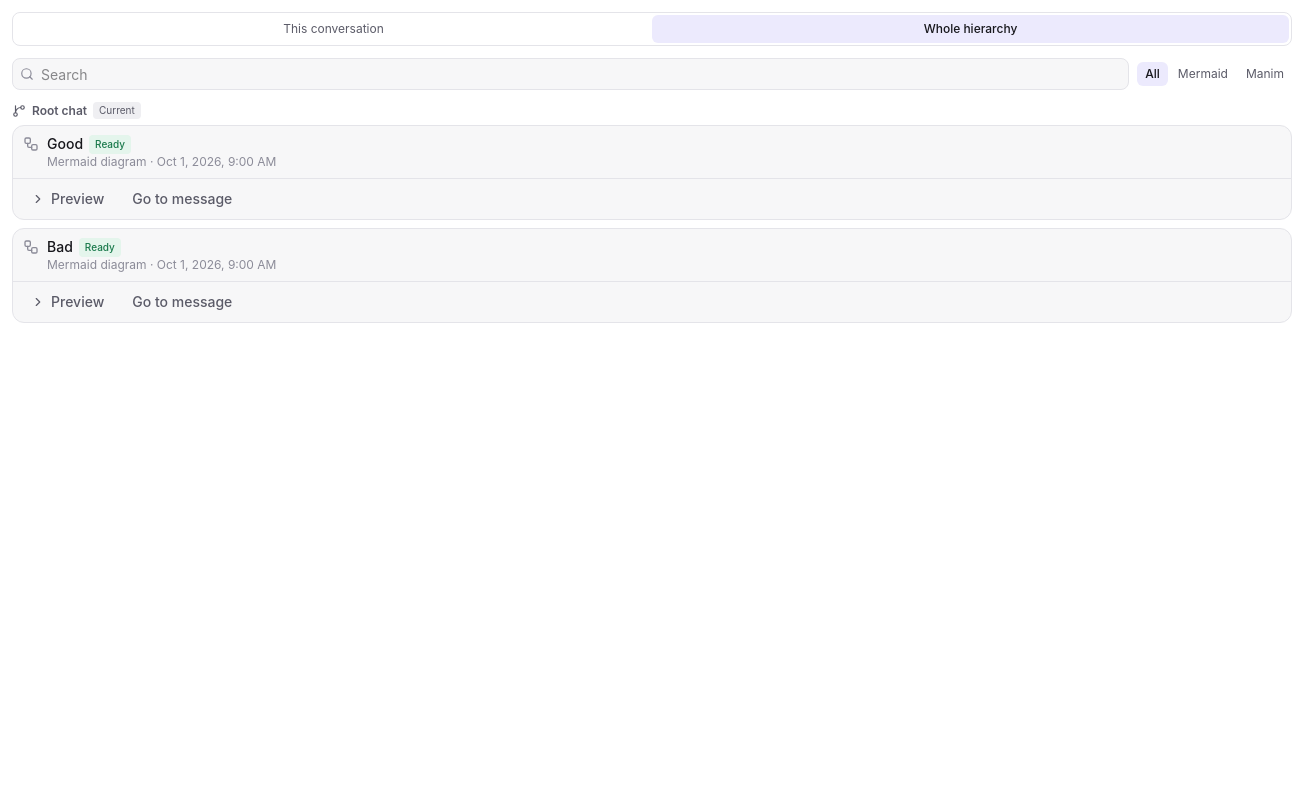
it: Artifacts tab › previews a Mermaid artifact from its stored source, and shows the source when it is invalid
Click the button with aria-label "Preview Good": (68, 199) [19, 183, 116, 215]
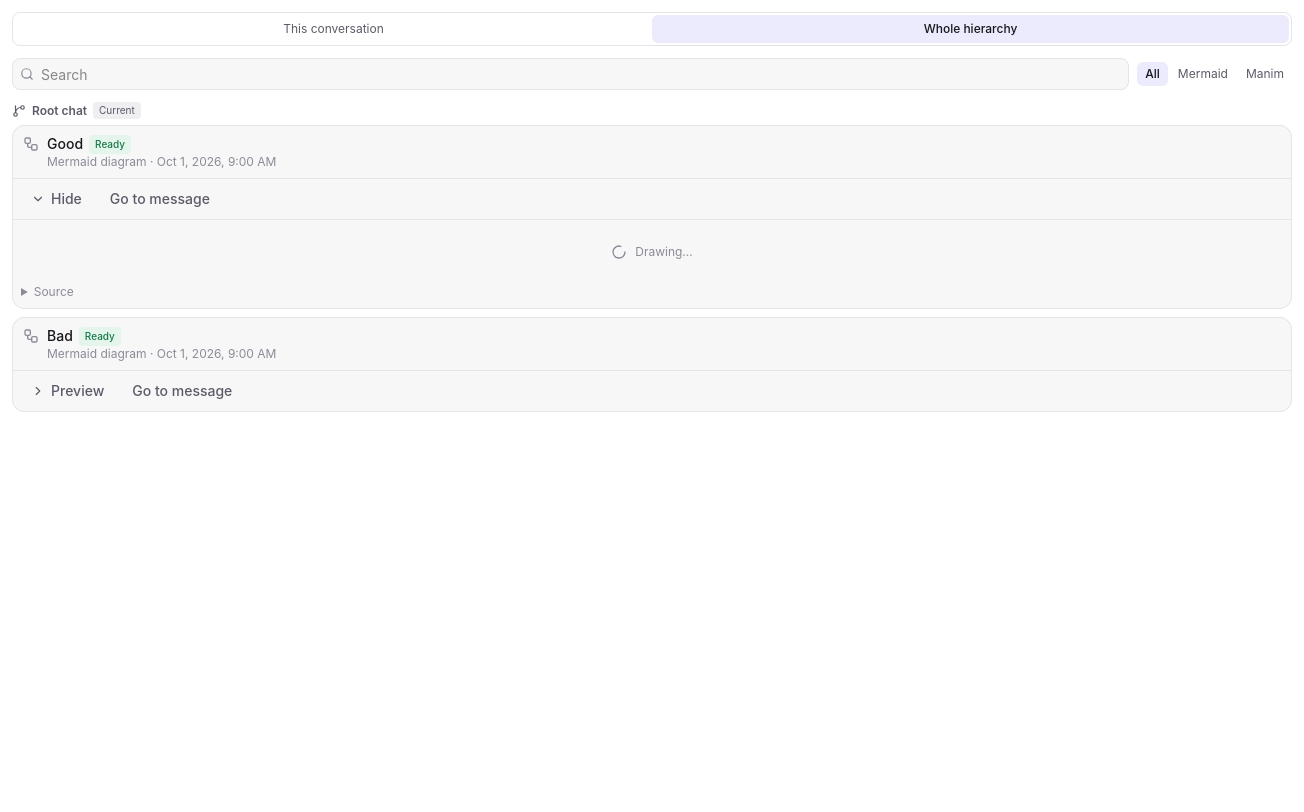
Click the button with aria-label "Preview Bad": (68, 391) [19, 375, 116, 407]
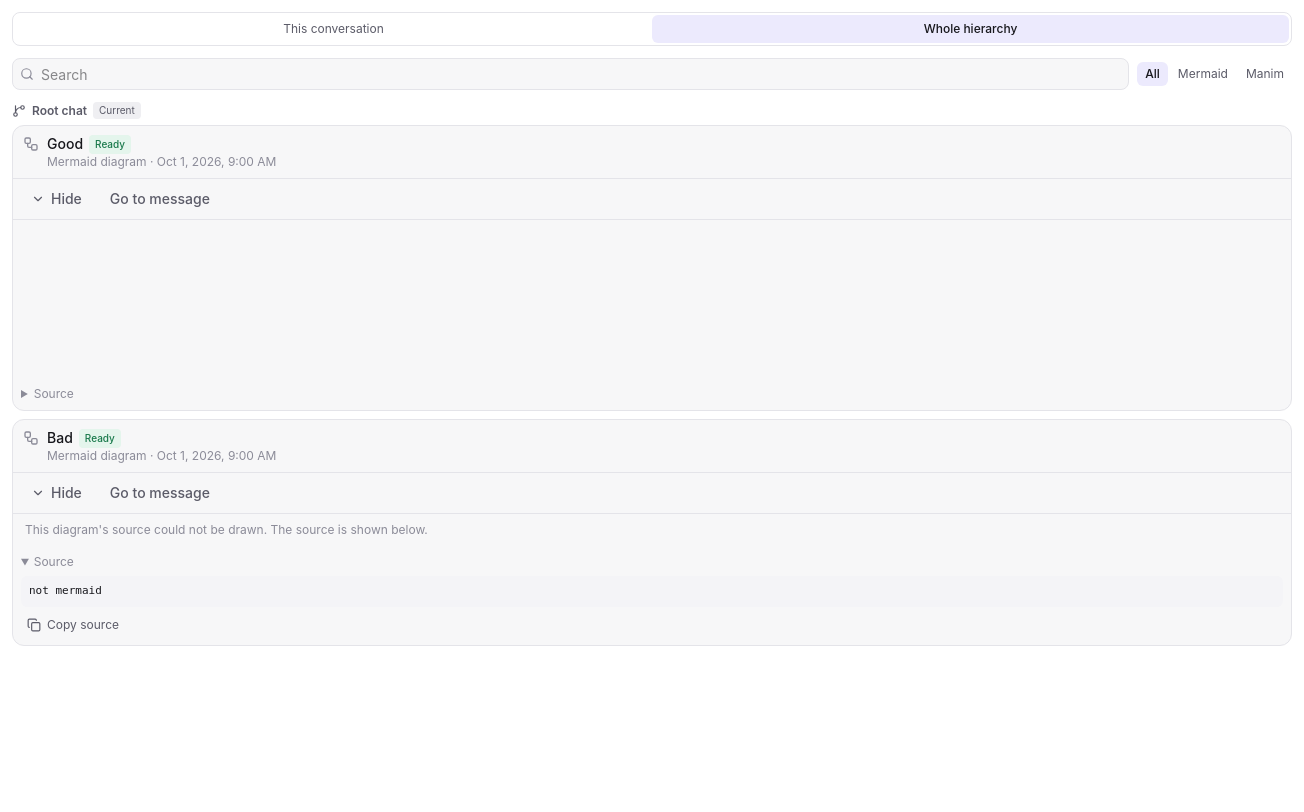
Expected: the message "This diagram's source could not be drawn. The source is shown below." is shown, [25, 522, 428, 537]
Expected: the text "not mermaid" is shown, [21, 576, 1283, 607]
